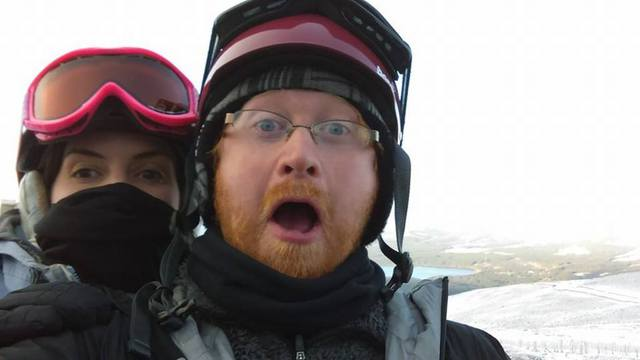helmet: (206, 2, 407, 146)
